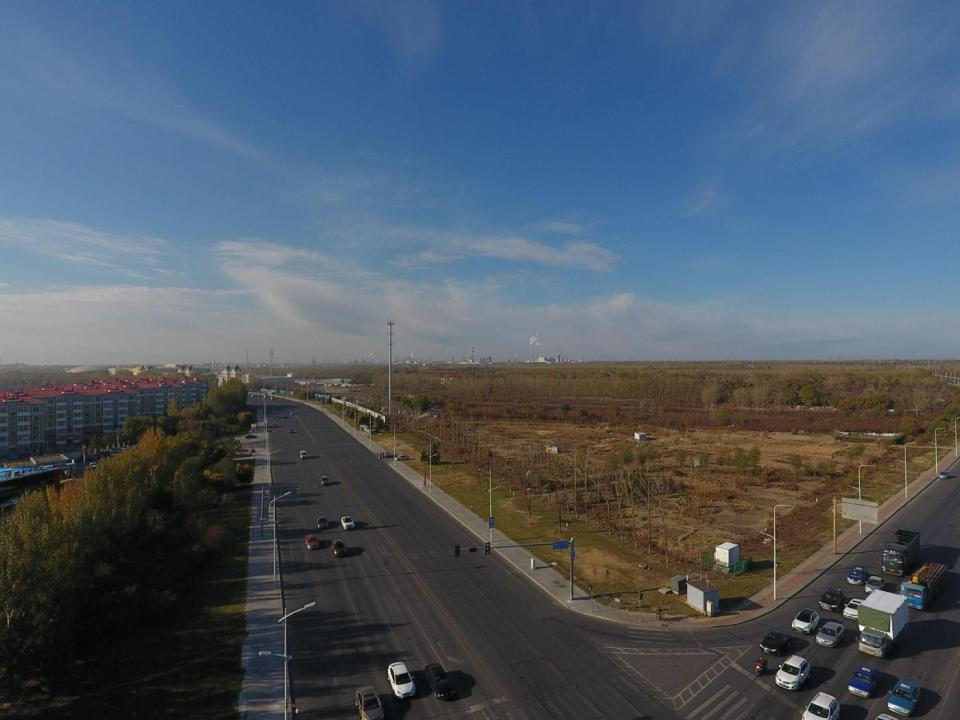car: (775, 655, 811, 690), (888, 679, 922, 716), (800, 691, 840, 720), (848, 664, 881, 699), (424, 663, 455, 700), (387, 661, 416, 699), (355, 685, 385, 720), (760, 629, 792, 656), (791, 608, 820, 635), (816, 621, 844, 648), (820, 586, 846, 612), (844, 598, 870, 622), (847, 566, 868, 585), (866, 576, 886, 594), (332, 539, 347, 557), (304, 534, 319, 550), (316, 516, 329, 529), (341, 516, 354, 529), (319, 476, 330, 486), (99, 450, 112, 457), (394, 455, 410, 460), (88, 462, 98, 469), (939, 472, 950, 478), (96, 452, 106, 458), (245, 435, 257, 439), (119, 446, 129, 450), (288, 428, 293, 434), (383, 452, 389, 457), (290, 411, 294, 415), (273, 423, 276, 428), (270, 397, 274, 400), (279, 412, 283, 415), (283, 415, 287, 418), (273, 411, 276, 414)
truck: (858, 588, 909, 658), (899, 560, 948, 610), (883, 529, 920, 576)
van: (84, 453, 98, 460), (300, 450, 306, 459), (110, 448, 120, 452)
